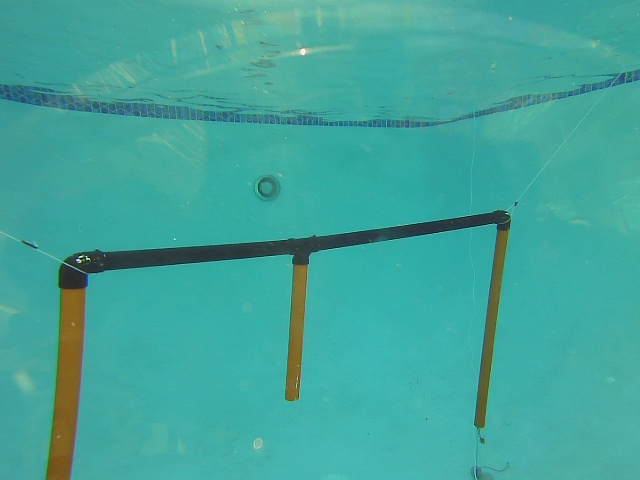Gate: (40, 281, 87, 480), (471, 225, 511, 432), (283, 255, 312, 404)
